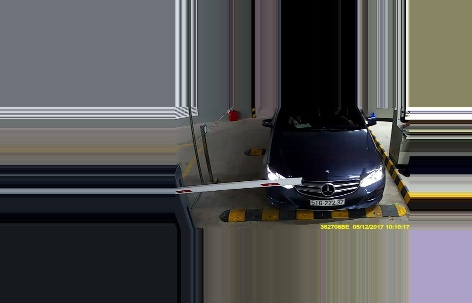plate: (309, 197, 345, 207)
